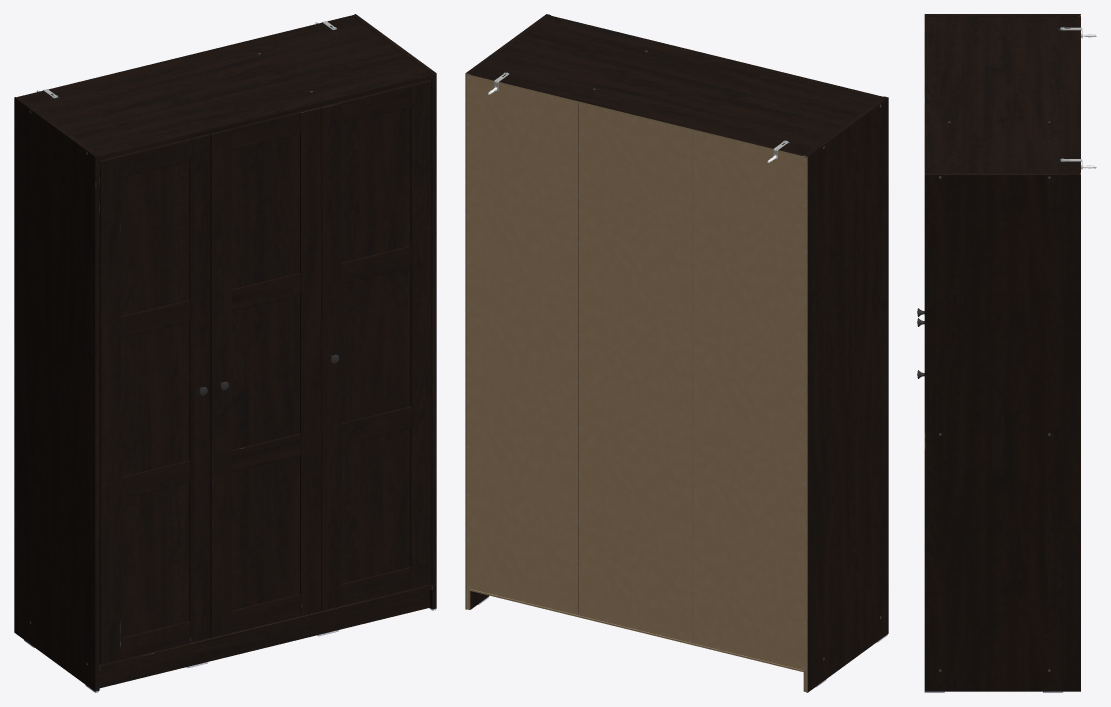
3 views of the same model, side by side, from view 1: azimuth 30°, elevation 25°; view 2: azimuth 150°, elevation 25°; view 3: azimuth 270°, elevation 25° (orthographic). The views are drawn at different scales.
Parts seen in each view (by area): view 1: world; view 2: world; view 3: world.
Part boxes in pixels (x1,y1,x2,y2): world: (14,14,436,692); world: (465,14,888,692); world: (917,14,1096,692).
Bounding box in the file's own units: 1.17 × 1.76 × 0.55.
Materials: 1 (1 with a texture image).
